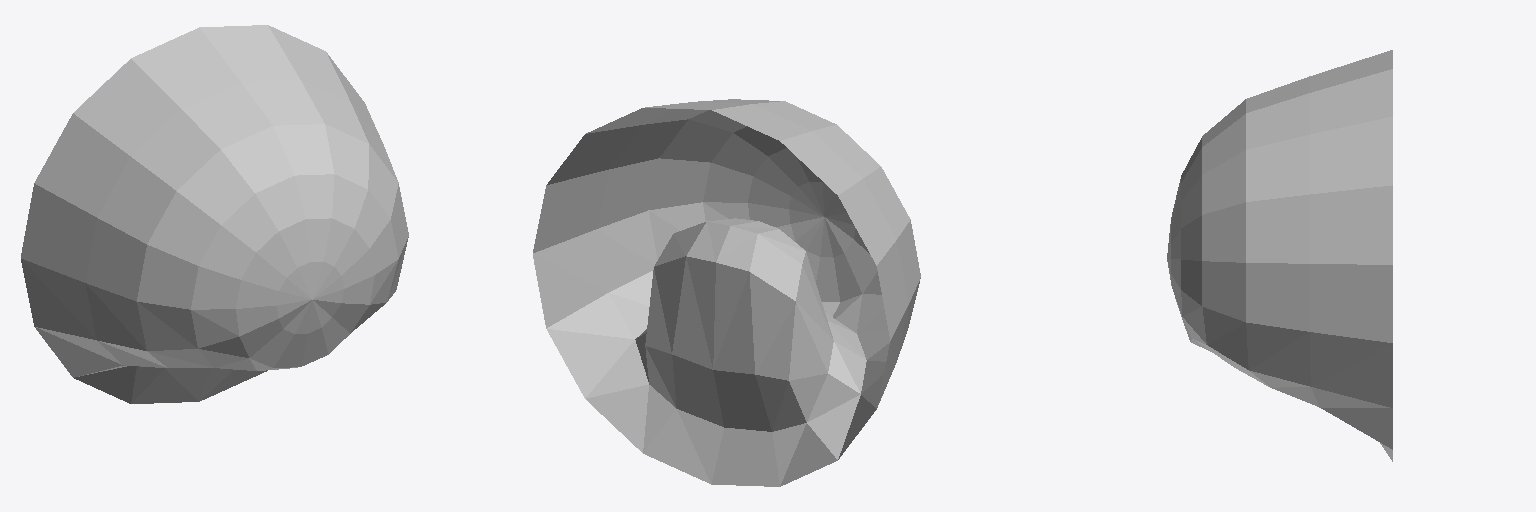
The model's file is cave.obj.
The picture shows the model from 3 angles: view 1: azimuth 30°, elevation 25°; view 2: azimuth 150°, elevation 25°; view 3: azimuth 270°, elevation 25°; orthographic projection.
Visible parts, largest first — view 1: Cylinder; view 2: Cylinder; view 3: Cylinder.
Boxes of the visible parts, <box> form: Cylinder: <box>21,25,408,403</box>; Cylinder: <box>533,99,920,486</box>; Cylinder: <box>1167,50,1392,461</box>.
Size of the model in its own units: 2.02 by 2.02 by 1.1.